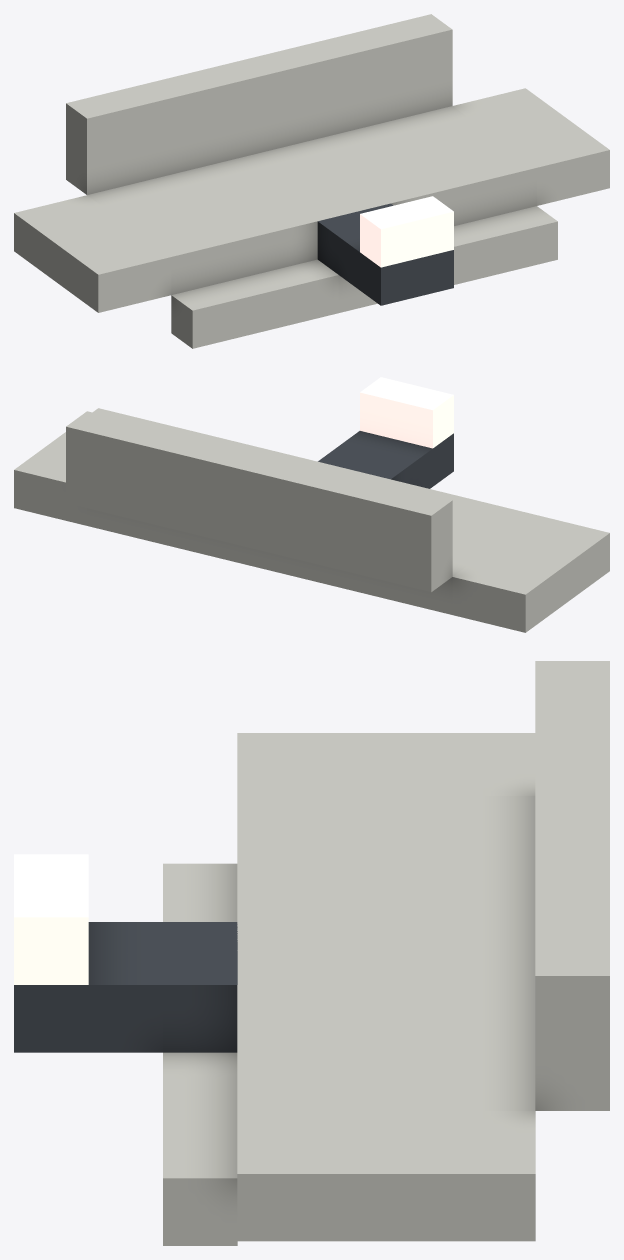
The model's file is cm_hq_dish.glb.
3 views of the same model, one above another, from view 1: azimuth 30°, elevation 25°; view 2: azimuth 150°, elevation 25°; view 3: azimuth 270°, elevation 25° (orthographic). The views are drawn at different scales.
Parts seen in each view (by area): view 1: cm_hq_dish_body; view 2: cm_hq_dish_body; view 3: cm_hq_dish_body.
Boxes of the visible parts, box(x1,y1,x2,y2) form: cm_hq_dish_body: box(14, 14, 609, 348); cm_hq_dish_body: box(14, 377, 609, 632); cm_hq_dish_body: box(14, 661, 609, 1245).
Size of the model in its own units: 0.875 by 0.25 by 0.5.
1 material, 1 textured.
